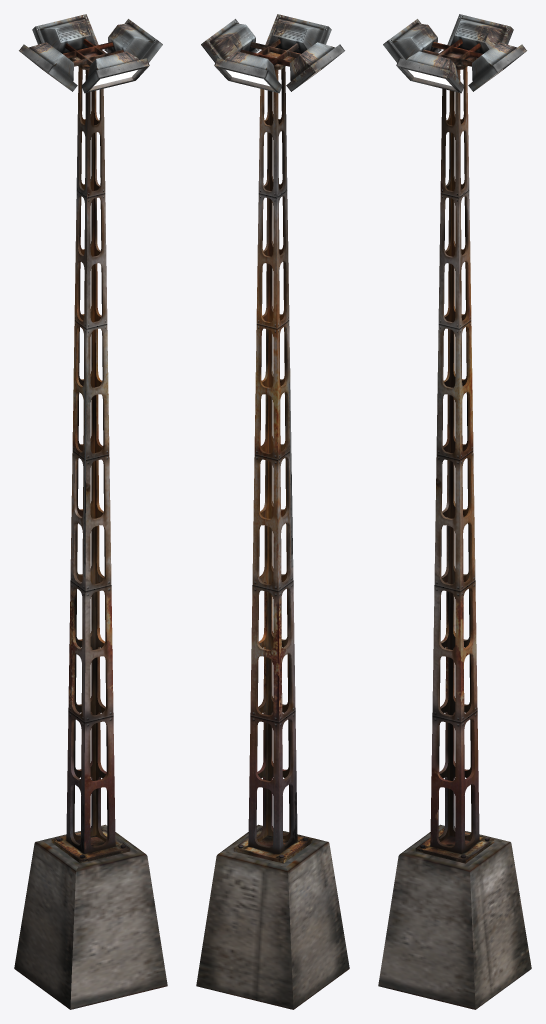
Rendered from YardLamp_Floor_ALL.FBX.
3 views of the same model, side by side, from view 1: azimuth 30°, elevation 25°; view 2: azimuth 150°, elevation 25°; view 3: azimuth 330°, elevation 25° (orthographic).
Visible parts, largest first — view 1: YardLamp_Floor_LOD0; view 2: YardLamp_Floor_LOD0; view 3: YardLamp_Floor_LOD0.
Boxes of the visible parts, <box> form: YardLamp_Floor_LOD0: <box>14,14,167,1009</box>; YardLamp_Floor_LOD0: <box>196,14,349,1009</box>; YardLamp_Floor_LOD0: <box>378,14,531,1009</box>.
Size of what is drawn, in the model's own units: 1839 by 14361 by 1839.
